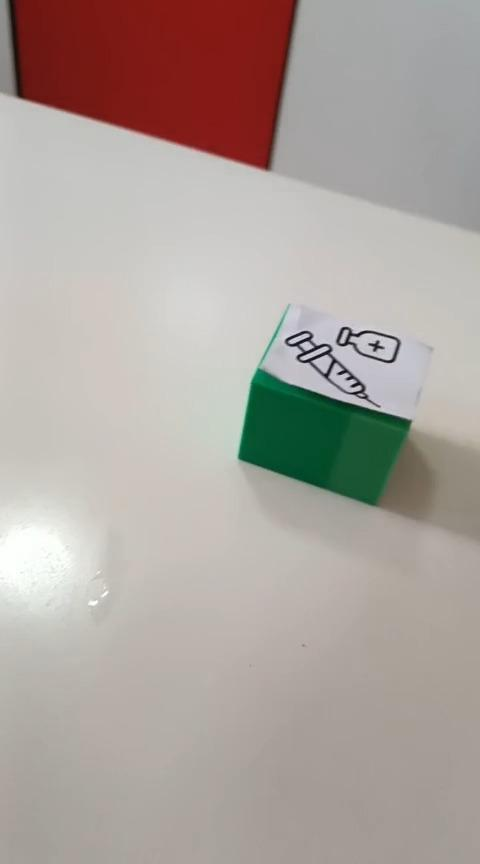antiseptic cream: (236, 300, 434, 506)
